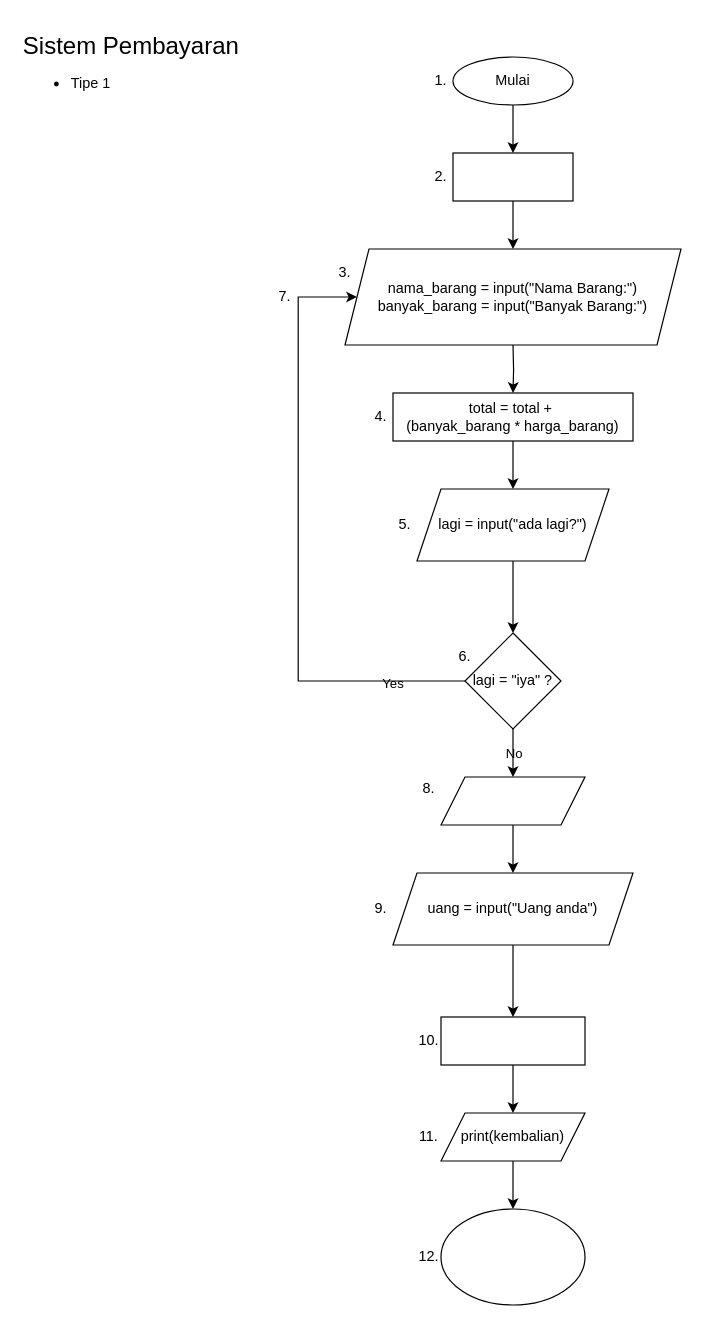
Some shapes in this 702 by 1326 pixel diagram are drawn without their labels. The centre of each missing label's shape, as x and y in pixels:
"kembalian = uang - total" belongs at (x=512, y=1040).
"print(total)" belongs at (x=512, y=800).
"Selesai" belongs at (x=512, y=1256).
"Total = 0" belongs at (x=512, y=176).
